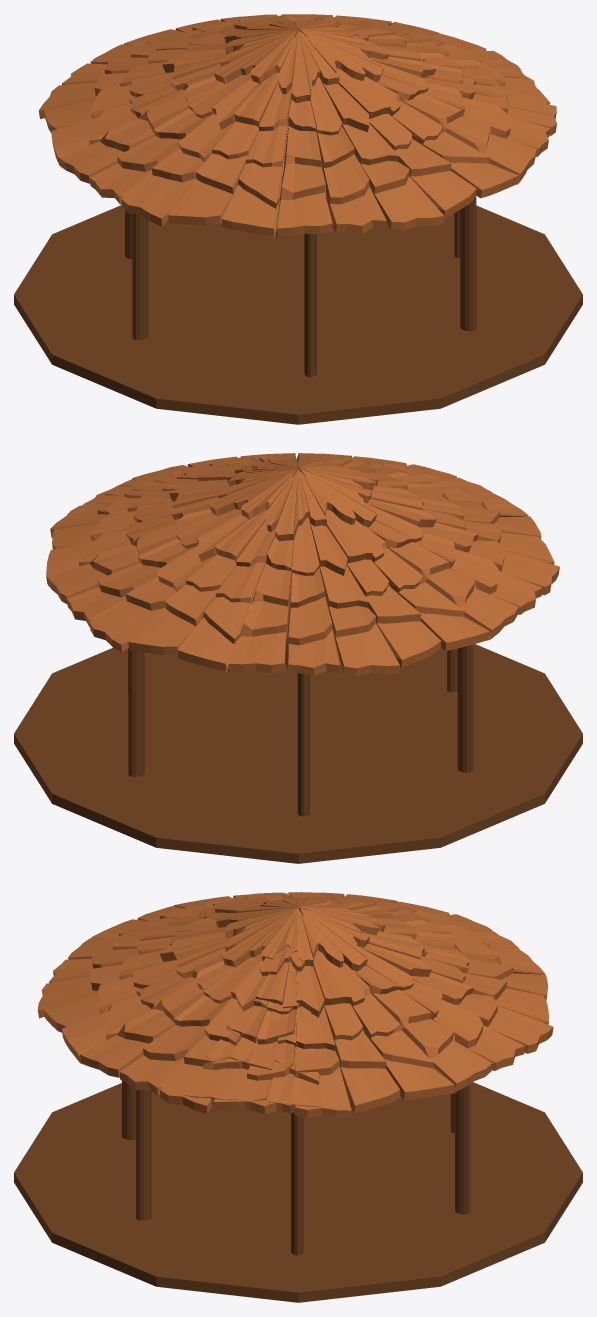
File: Pavillion.fbx
3 views of the same model, one above another, from view 1: azimuth 30°, elevation 25°; view 2: azimuth 150°, elevation 25°; view 3: azimuth 270°, elevation 25° (orthographic).
Visible parts, largest first — view 1: Pavillion; view 2: Pavillion; view 3: Pavillion.
Boxes of the visible parts, x1,y1,x2,y2 form: Pavillion: (14,14,582,424); Pavillion: (14,453,582,863); Pavillion: (14,892,582,1302).
Size of the model in its own units: 1147 by 615 by 1147.
